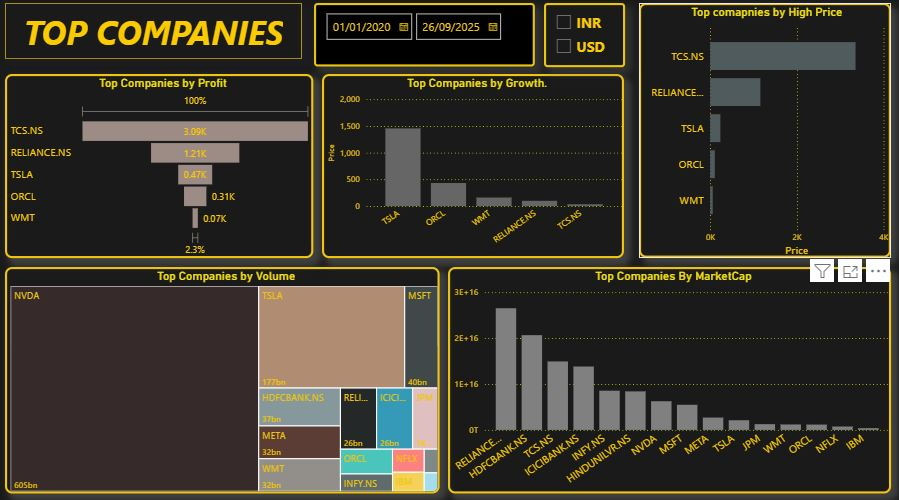

Layout of this report page (visuals, bound fields, positions):
{"tool":"powerbi","page":{"name":"Top Companies","canvas":[1280,720],"ordinal":2},"visuals":[{"type":"slicer","fields":{"Values":["stocks_data.Date"]},"box":[450.7,9,313.4,89.6],"z":0},{"type":"clusteredColumnChart","title":"Top Companies By MarketCap  ","fields":{"Category":["stocks_data.Ticker"],"Y":["Sum(stocks_data.MarketCap)"]},"box":[640.3,382.1,628.4,320.9],"z":1000},{"type":"treemap","title":"Top Companies by Volume","fields":{"Group":["stocks_data.Ticker"],"Values":["Sum(stocks_data.Volume)"]},"box":[13.4,382.1,616.4,320.9],"z":2000},{"type":"shape","title":"STOCK MARKET","box":[13.4,9,420.9,79.1],"z":3000},{"type":"funnel","title":"Top Companies by Profit","fields":{"Category":["stocks_data.Ticker"],"Y":["stocks_data.Top Profit/Loss"]},"box":[13.4,109,437.3,261.2],"z":4000},{"type":"columnChart","title":"Top Companies by Growth.","fields":{"Category":["stocks_data.Ticker"],"Y":["stocks_data.Price Growth %"]},"box":[462.7,109,428.4,261.2],"z":5000},{"type":"barChart","title":"Top comapnies by High Price","fields":{"Category":["stocks_data.Ticker"],"Y":["Avg(stocks_data.High)"]},"box":[911.9,9,356.7,361.2],"z":6000},{"type":"slicer","fields":{"Values":["stocks_data.Currency"]},"box":[776.1,9,114.9,91],"z":7000}]}

Visuals, with their boxes in screenshot pixels (x1, y1, x2, y2), scaled from the page's 1280x720 canvas onto the 899x500 screenshot:
slicer - stocks_data.Date: 317:6:537:68
"Top Companies By MarketCap  " clusteredColumnChart: 450:265:891:488
"Top Companies by Volume" treemap: 9:265:442:488
"STOCK MARKET" shape: 9:6:305:61
"Top Companies by Profit" funnel: 9:76:317:257
"Top Companies by Growth." columnChart: 325:76:626:257
"Top comapnies by High Price" barChart: 640:6:891:257
slicer - stocks_data.Currency: 545:6:626:69
